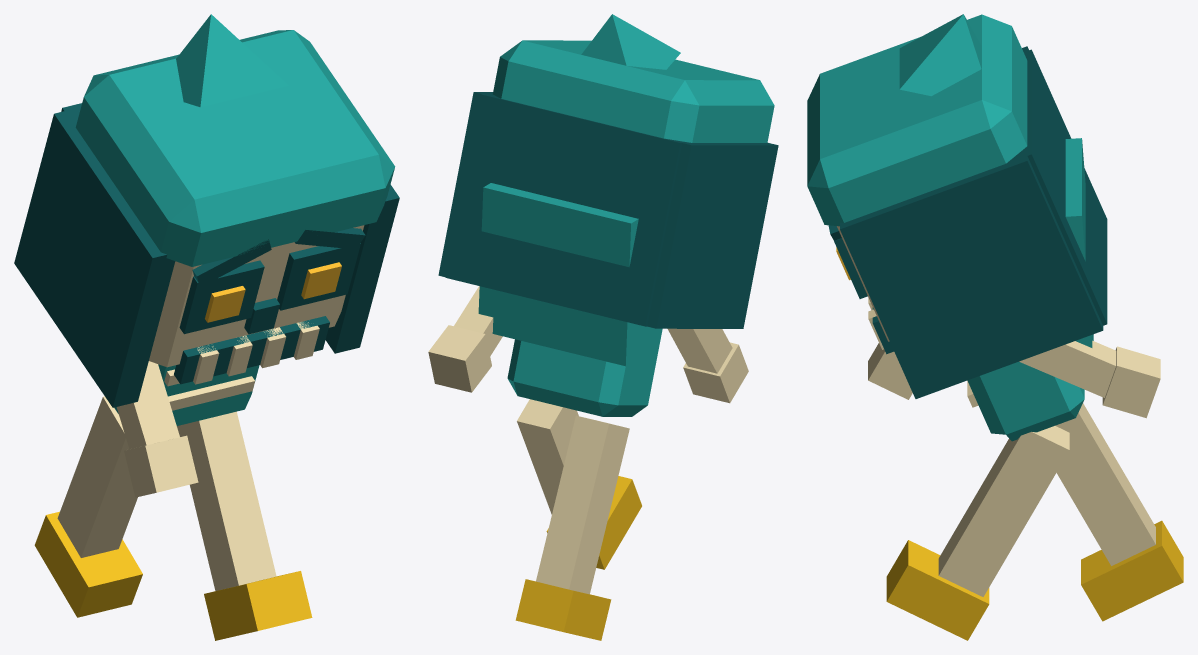
Rendered from scout_r5.glb.
The picture shows the model from 3 angles, left to right: view 1: azimuth 30°, elevation 25°; view 2: azimuth 150°, elevation 25°; view 3: azimuth 270°, elevation 25°; orthographic projection. The views are drawn at different scales.
Parts seen in each view (by area): view 1: scout_r5_mesh; view 2: scout_r5_mesh; view 3: scout_r5_mesh.
Boxes of the visible parts, <box> form: scout_r5_mesh: <box>14,14,399,640</box>; scout_r5_mesh: <box>428,14,778,640</box>; scout_r5_mesh: <box>807,14,1183,640</box>.
Size of the model in its own units: 0.4831 by 1.2 by 0.6705.
Materials: 1 (1 with a texture image).
